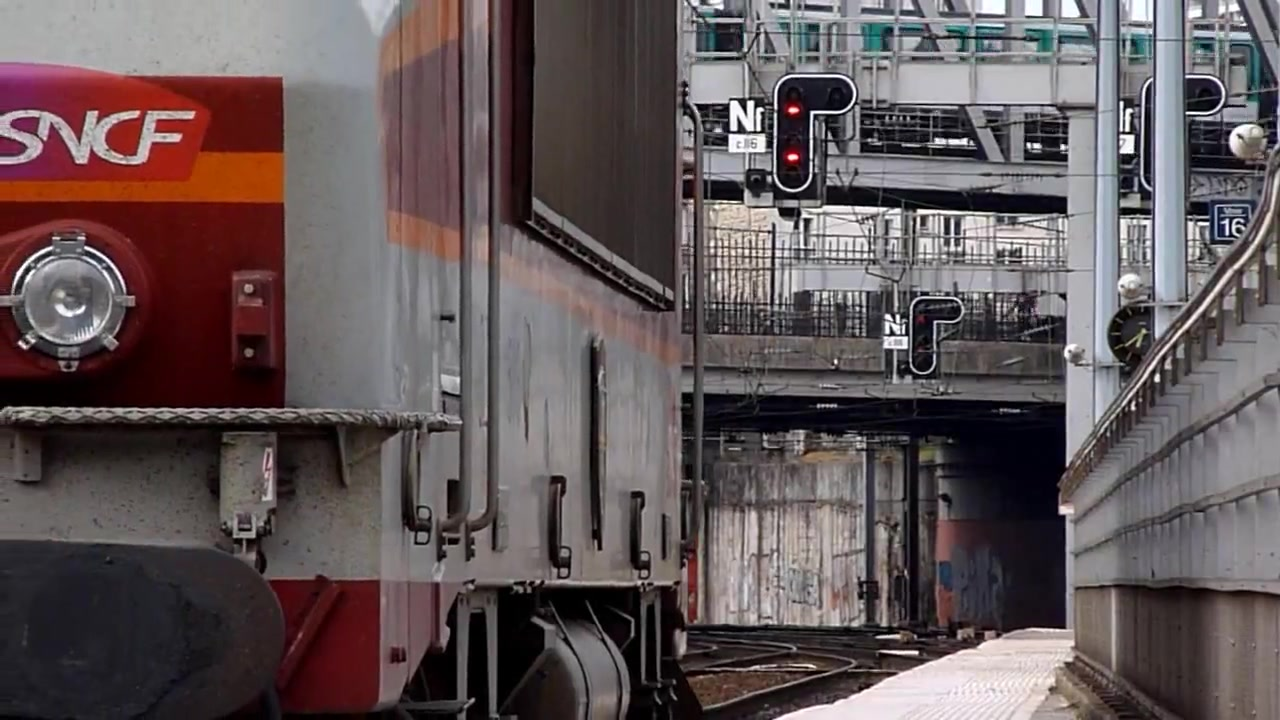train: (1, 1, 705, 720)
